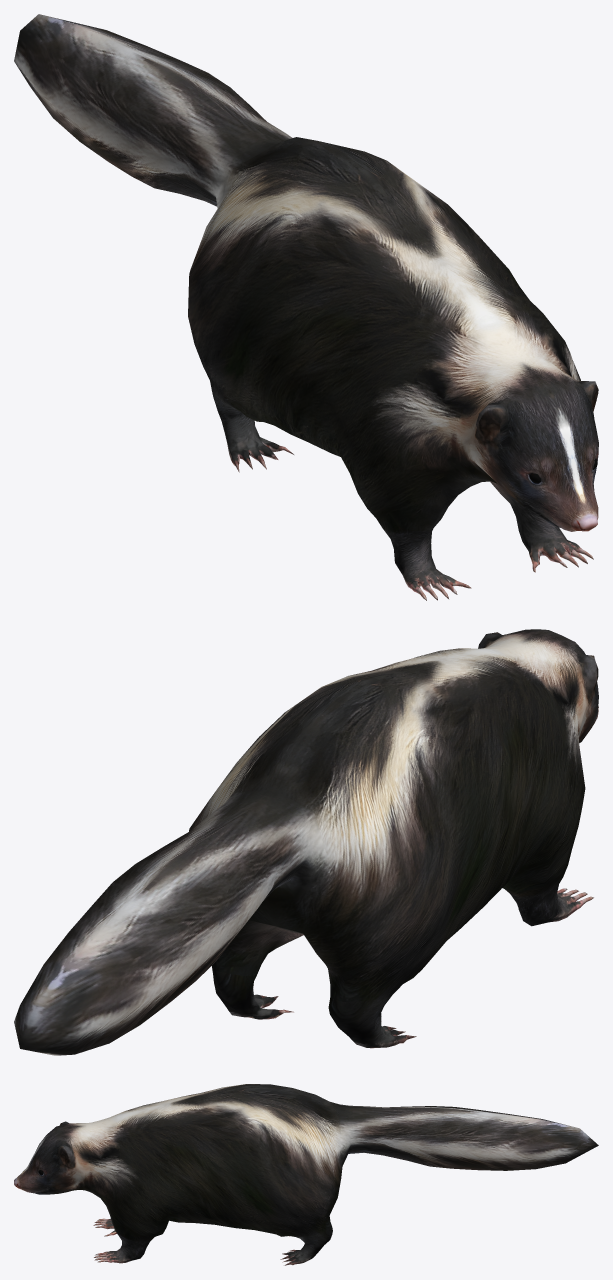
3 renders of one model, top to bottom at view 1: azimuth 30°, elevation 25°; view 2: azimuth 150°, elevation 25°; view 3: azimuth 270°, elevation 25°, orthographic. The views are drawn at different scales.
Parts seen in each view (by area): view 1: sm_1_0_0_1; view 2: sm_1_0_0_1; view 3: sm_1_0_0_1.
Part boxes in pixels (left/top/right/bottom): sm_1_0_0_1: left=14, top=14, right=598, bottom=600; sm_1_0_0_1: left=14, top=629, right=598, bottom=1055; sm_1_0_0_1: left=14, top=1084, right=598, bottom=1265.
Bounding box in the file's own units: 0.1647 × 0.2054 × 0.6835.
Materials: 2 (2 with a texture image).
